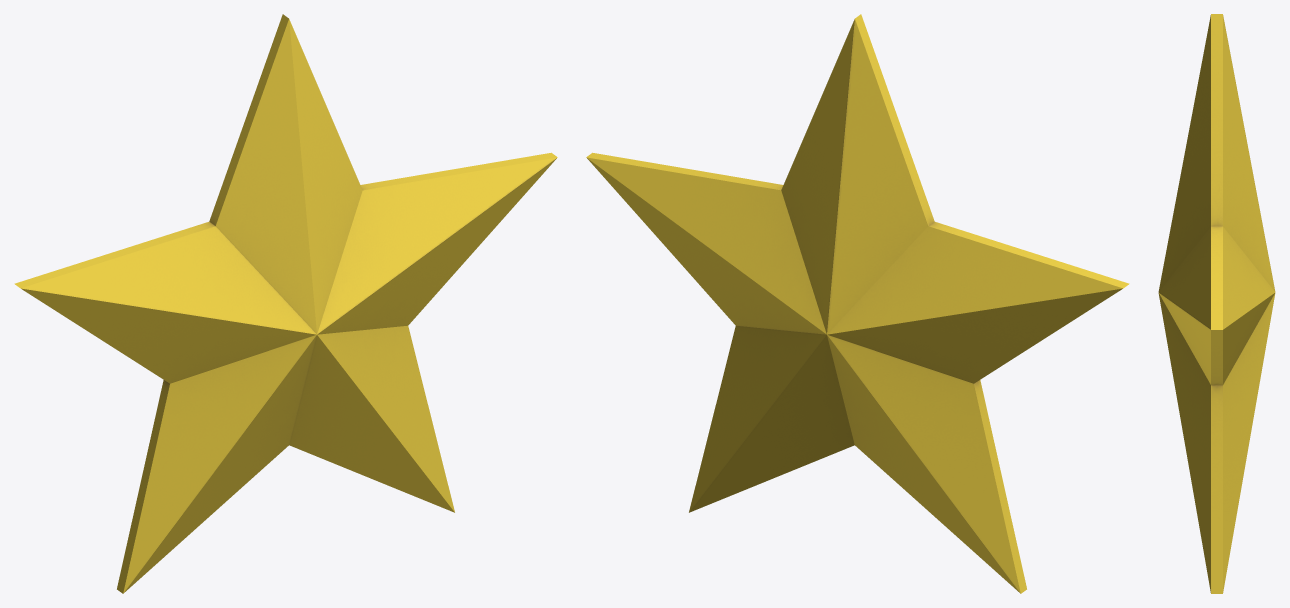
File: star.obj
3 renders of one model, left to right at view 1: azimuth 30°, elevation 25°; view 2: azimuth 150°, elevation 25°; view 3: azimuth 270°, elevation 25°, orthographic. The views are drawn at different scales.
Visible parts, largest first — view 1: Star; view 2: Star; view 3: Star.
Boxes of the visible parts, x1,y1,x2,y2 form: Star: (14,14,557,593); Star: (586,14,1129,593); Star: (1158,14,1275,593).
Size of the model in its own units: 4.58 by 4.35 by 0.917.
Materials: 1 (1 with a texture image).
